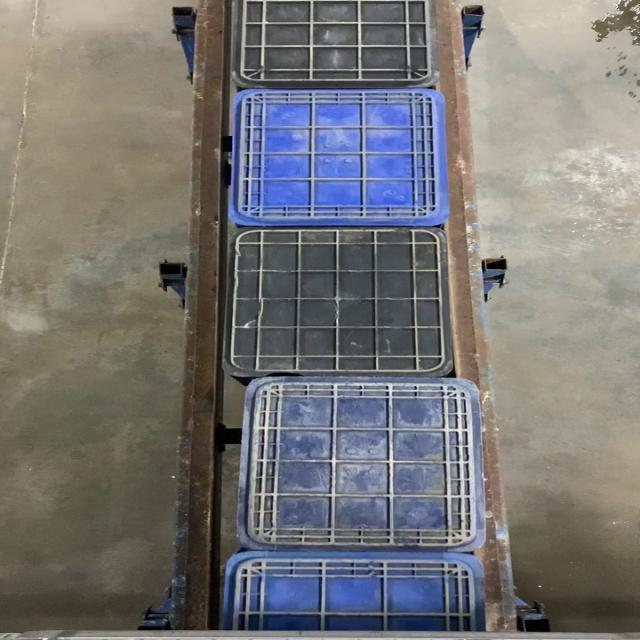Box: (236, 375, 487, 553), (229, 86, 447, 227)
Damaged_box: (222, 227, 454, 375)
